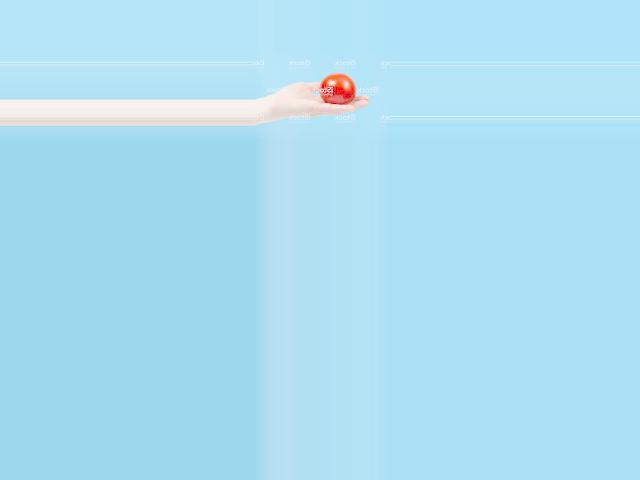tomato: (319, 73, 355, 104)
